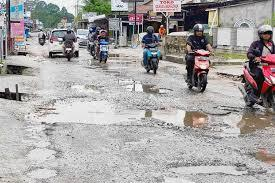Pothole: (35, 89, 266, 144), (68, 51, 167, 100), (18, 112, 78, 183), (165, 148, 275, 183), (108, 35, 136, 69), (0, 85, 38, 106), (2, 57, 38, 78), (212, 64, 243, 87), (14, 45, 27, 58)
